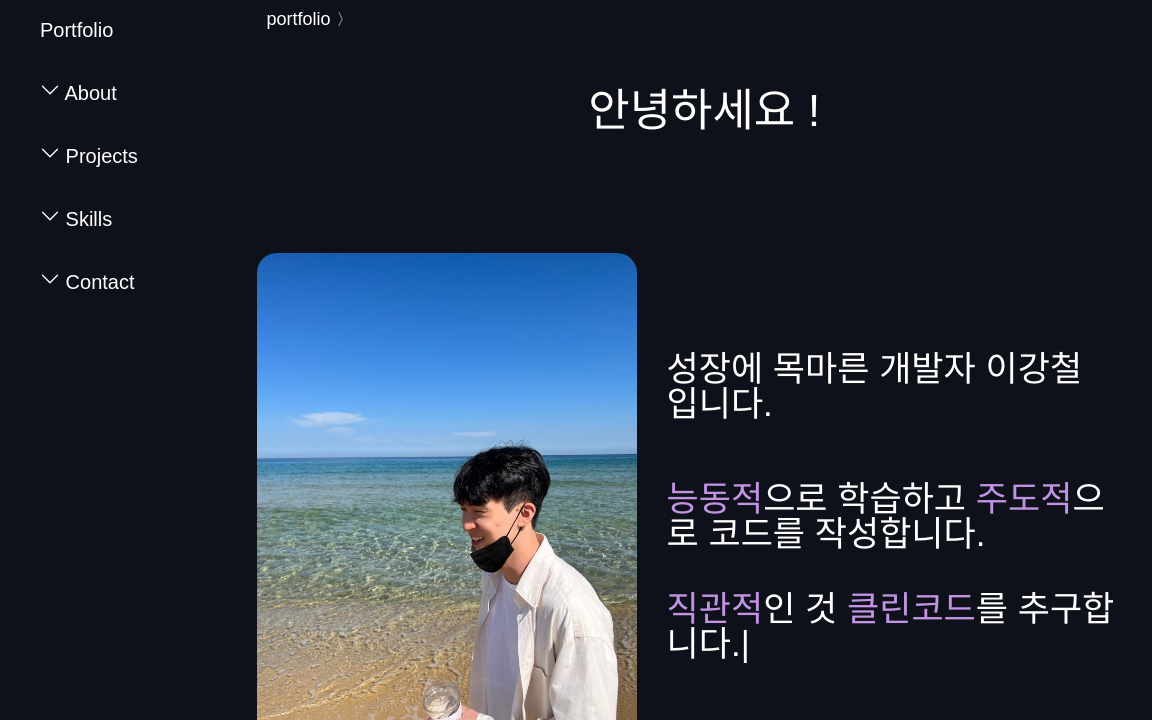
Test: Portfolio App › navigate to Contact page
Click the link "Contact" at coordinates (88, 282), box [40,271,135,293]
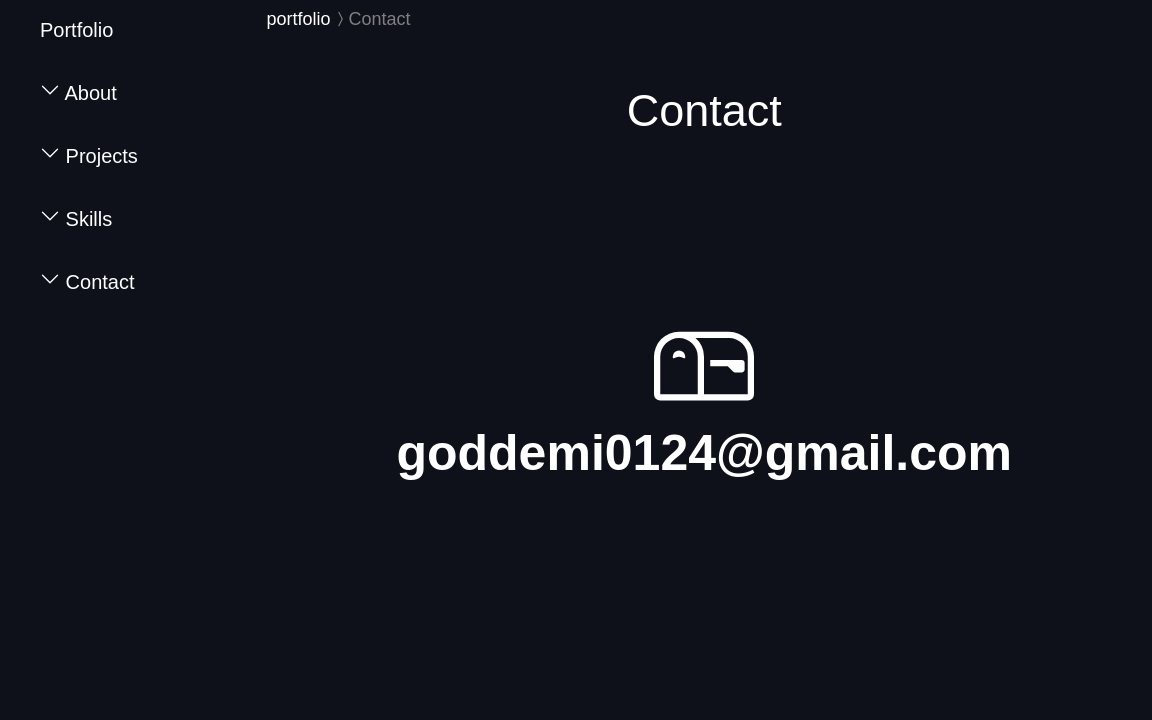
Expected: the link "goddemi0124@gmail.com" is shown, [396,425,1012,481]
